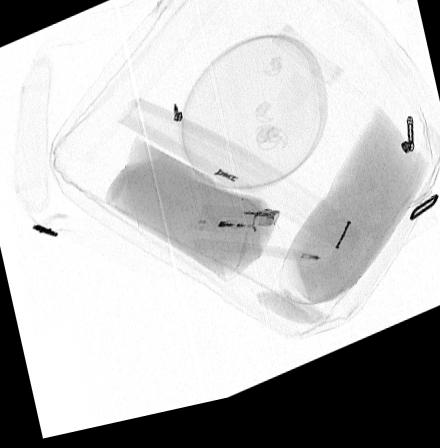Lighter: (195, 213, 281, 247)
